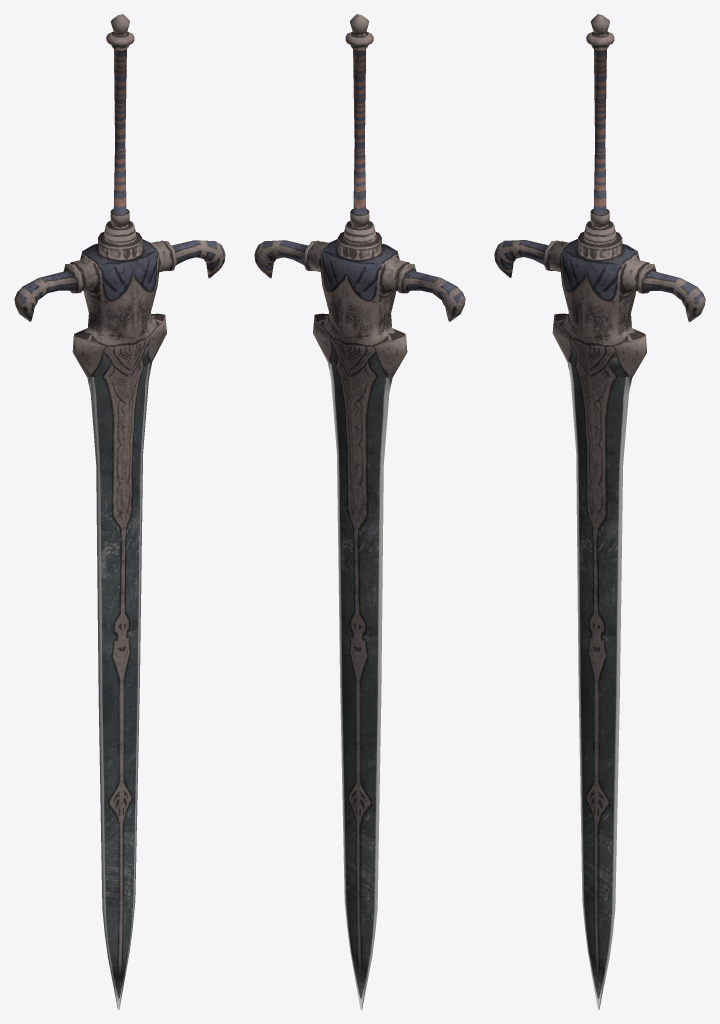
The model's file is sword2.glb.
The picture shows the model from 3 angles, left to right: view 1: azimuth 30°, elevation 25°; view 2: azimuth 150°, elevation 25°; view 3: azimuth 330°, elevation 25°; orthographic projection.
Visible parts, largest first — view 1: Object_2; view 2: Object_2; view 3: Object_2.
Boxes of the visible parts, x1,y1,x2,y2 form: Object_2: (14,14,225,1009); Object_2: (254,14,465,1009); Object_2: (494,14,705,1009).
Bounding box in the file's own units: 0.3412 × 1.55 × 0.0962.
1 material, 1 textured.
